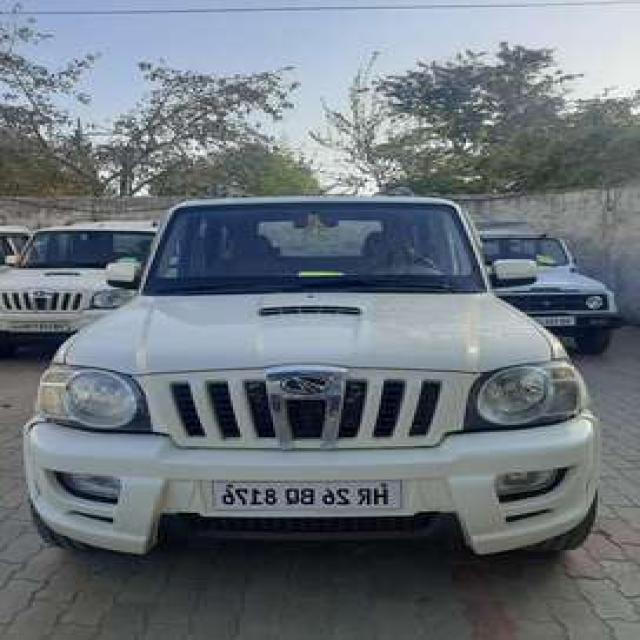license_plate: (206, 474, 409, 518)
